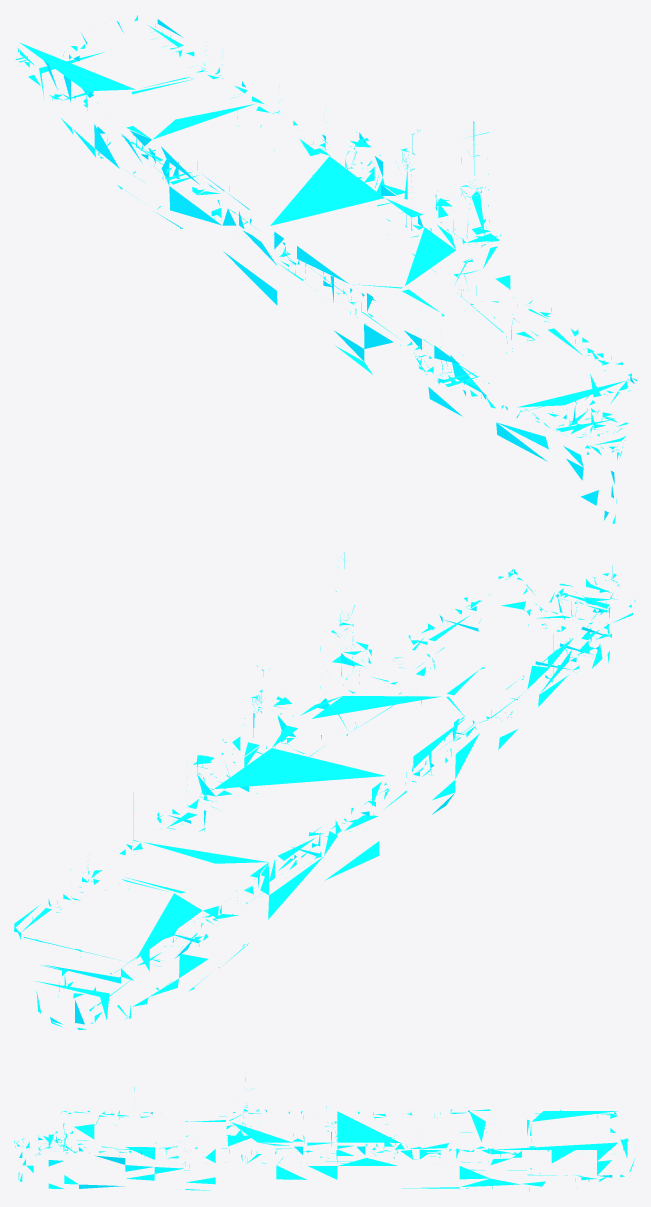
The model's file is Saipan.glb.
The picture shows the model from 3 angles, top to bottom: view 1: azimuth 30°, elevation 25°; view 2: azimuth 150°, elevation 25°; view 3: azimuth 270°, elevation 25°; orthographic projection. The views are drawn at different scales.
Size of the model in its own units: 2.46 by 3.39 by 13.79.
